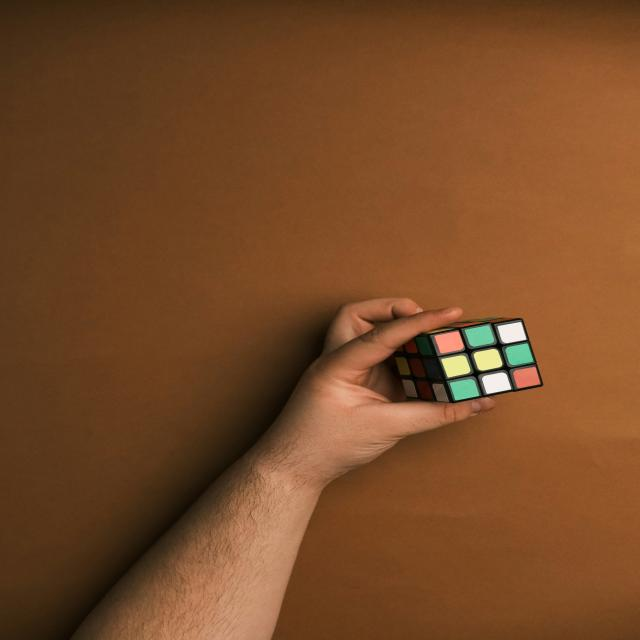Cubo-No-resuelto: (386, 317, 543, 403)
